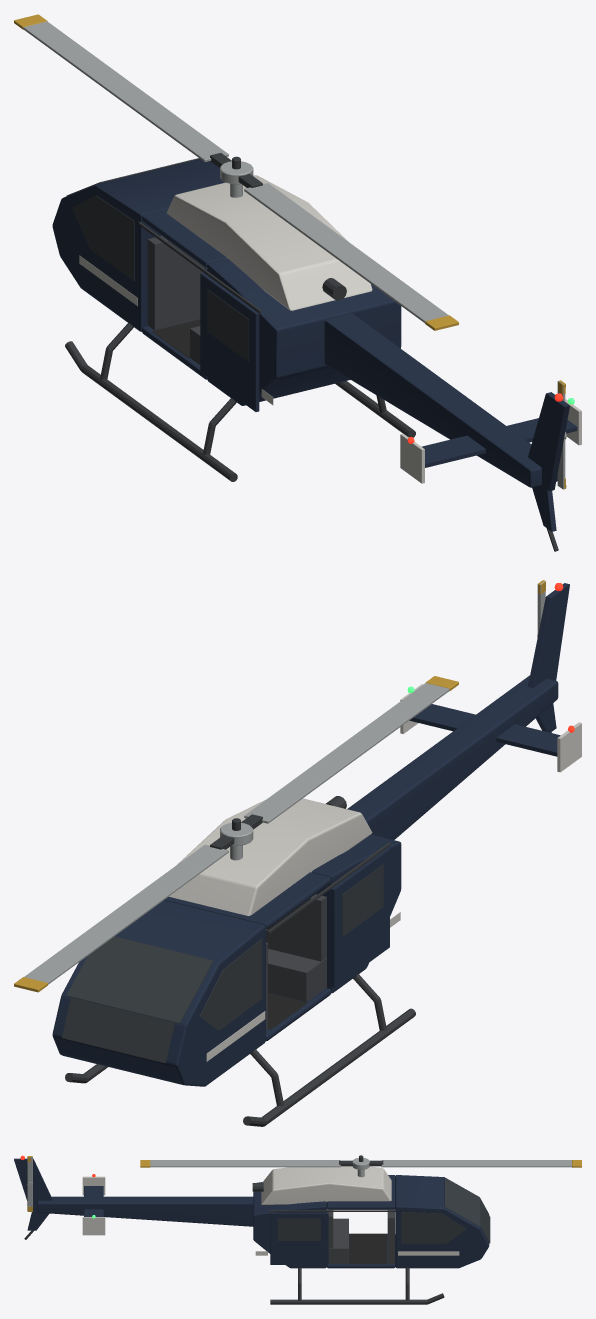
Rendered from veh_heli_escape.glb.
The picture shows the model from 3 angles, top to bottom: view 1: azimuth 30°, elevation 25°; view 2: azimuth 150°, elevation 25°; view 3: azimuth 270°, elevation 25°; orthographic projection. The views are drawn at different scales.
Parts seen in each view (by area): view 1: Body, RotorBlades; view 2: Body, RotorBlades; view 3: Body, RotorBlades, TailRotorBlades.
Boxes of the visible parts, left/top/right/bottom form: Body: left=52, top=158, right=581, bottom=551; RotorBlades: left=14, top=14, right=458, bottom=330; Body: left=52, top=583, right=581, bottom=1126; RotorBlades: left=14, top=676, right=458, bottom=992; Body: left=14, top=1155, right=490, bottom=1304; RotorBlades: left=140, top=1155, right=581, bottom=1169; TailRotorBlades: left=27, top=1156, right=32, bottom=1211.
Bounding box in the file's own units: 2.3 × 2.87 × 11.58.
